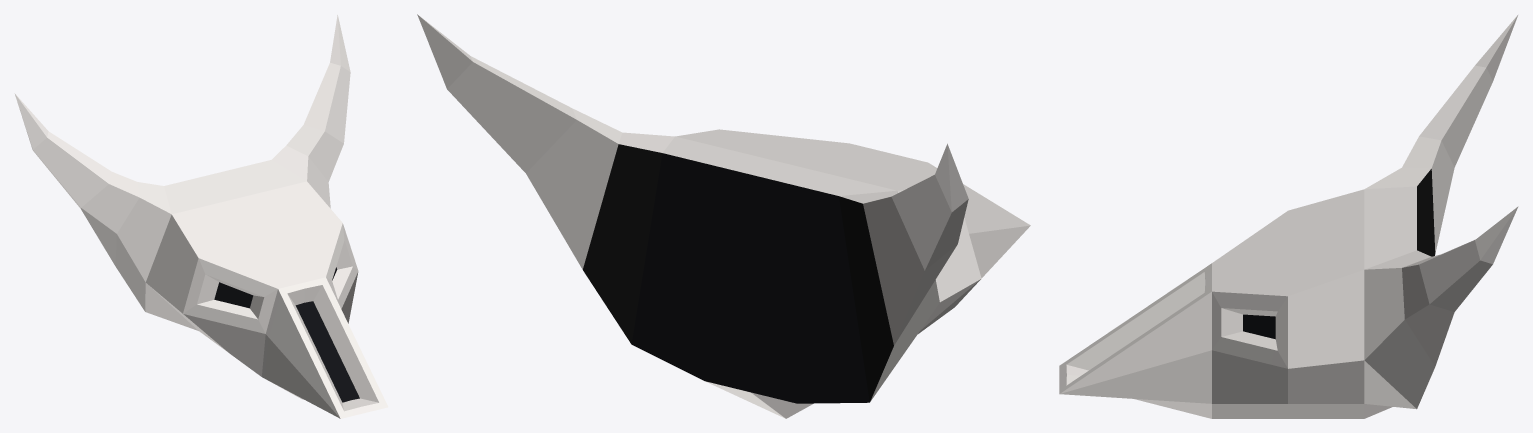
File: skull.fbx
3 views of the same model, side by side, from view 1: azimuth 30°, elevation 25°; view 2: azimuth 150°, elevation 25°; view 3: azimuth 270°, elevation 25° (orthographic). The views are drawn at different scales.
Parts seen in each view (by area): view 1: Cube.038; view 2: Cube.038; view 3: Cube.038.
Boxes of the visible parts, x1,y1,x2,y2 form: Cube.038: (14, 15, 388, 418); Cube.038: (417, 14, 1030, 418); Cube.038: (1059, 15, 1518, 418).
Size of the model in its own units: 186 by 140 by 188.
